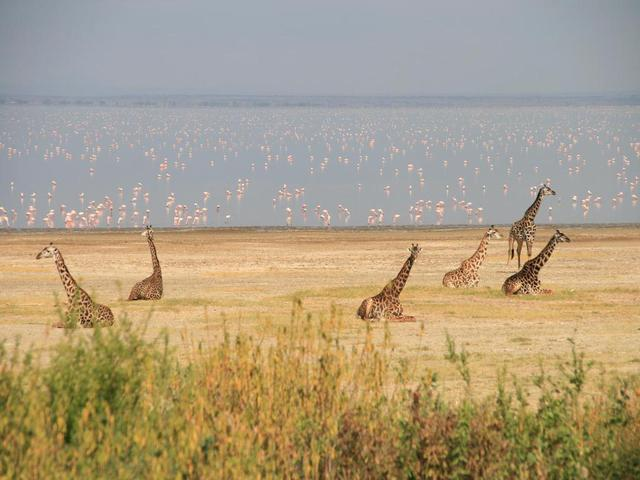giraffe: (19, 234, 133, 338), (345, 240, 434, 334), (125, 216, 187, 310)
